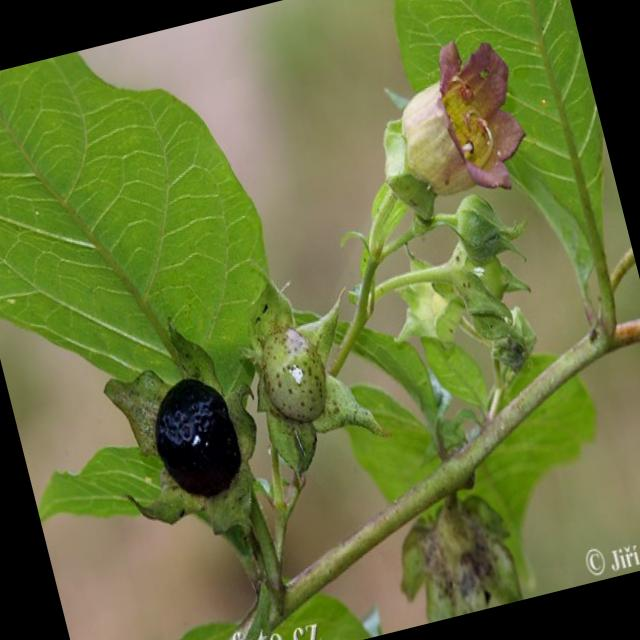Poisonous-Deadly_Nightshade: (299, 14, 602, 452), (44, 273, 404, 609), (0, 17, 294, 415), (378, 495, 539, 629)
